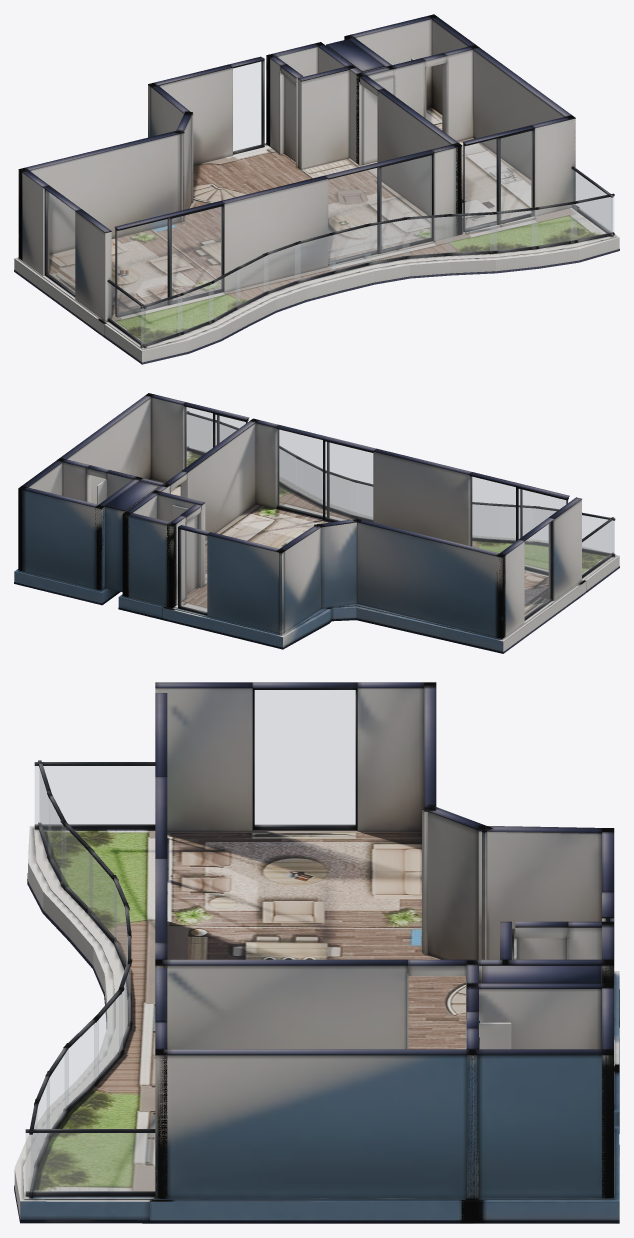
The picture shows the model from 3 angles, top to bottom: view 1: azimuth 30°, elevation 25°; view 2: azimuth 150°, elevation 25°; view 3: azimuth 270°, elevation 25°; orthographic projection. The views are drawn at different scales.
Parts seen in each view (by area): view 1: plan, glass0_m, glass1_m, glass2_m, glass4_m, glass3_m, railg5_m, railg6_m, railg4_m, railg3_m, railg7_m, railg2_m (+9 smaller); view 2: plan, glass1_m, glass0_m, glass4_m, glass3_m, glass2_m, railg1_m, railg14_m, railg12_m, railg2_m, railg6_m, railg7_m (+3 smaller); view 3: plan, glass3_m, railg0_m, railg1_m, railg5_m, railg12_m, railg6_m, railg11_m, railg4_m, railg13_m, railg10_m.
Boxes of the visible parts, box(x1,y1,x2,y2) form: plan: box(14, 14, 619, 364); glass0_m: box(116, 207, 221, 314); glass1_m: box(328, 155, 431, 260); glass2_m: box(464, 131, 532, 229); glass4_m: box(233, 62, 261, 151); glass3_m: box(47, 191, 74, 293); railg5_m: box(445, 214, 496, 252); railg6_m: box(403, 217, 452, 255); railg4_m: box(490, 210, 537, 250); railg3_m: box(531, 204, 576, 246); railg7_m: box(364, 220, 409, 262); railg2_m: box(570, 197, 613, 240); plan: box(14, 393, 619, 653); glass1_m: box(277, 429, 372, 521); glass0_m: box(470, 476, 568, 571); glass4_m: box(180, 530, 206, 612); glass3_m: box(525, 523, 550, 617); glass2_m: box(184, 407, 245, 467); railg1_m: box(582, 520, 612, 574); railg14_m: box(582, 515, 614, 553); railg12_m: box(499, 507, 533, 540); railg2_m: box(187, 415, 212, 452); railg6_m: box(301, 461, 326, 506); railg7_m: box(322, 472, 350, 513); plan: box(14, 682, 619, 1223); glass3_m: box(255, 690, 355, 825); railg0_m: box(26, 1133, 154, 1191); railg1_m: box(35, 766, 154, 824); railg5_m: box(65, 1020, 98, 1109); railg12_m: box(62, 824, 93, 912); railg6_m: box(94, 992, 122, 1081); railg11_m: box(88, 852, 116, 941); railg4_m: box(47, 1049, 68, 1128); railg13_m: box(48, 798, 65, 885); railg10_m: box(114, 883, 127, 964).
Size of the model in its own units: 12.69 by 2.62 by 8.63.
Materials: 2 (1 with a texture image).
